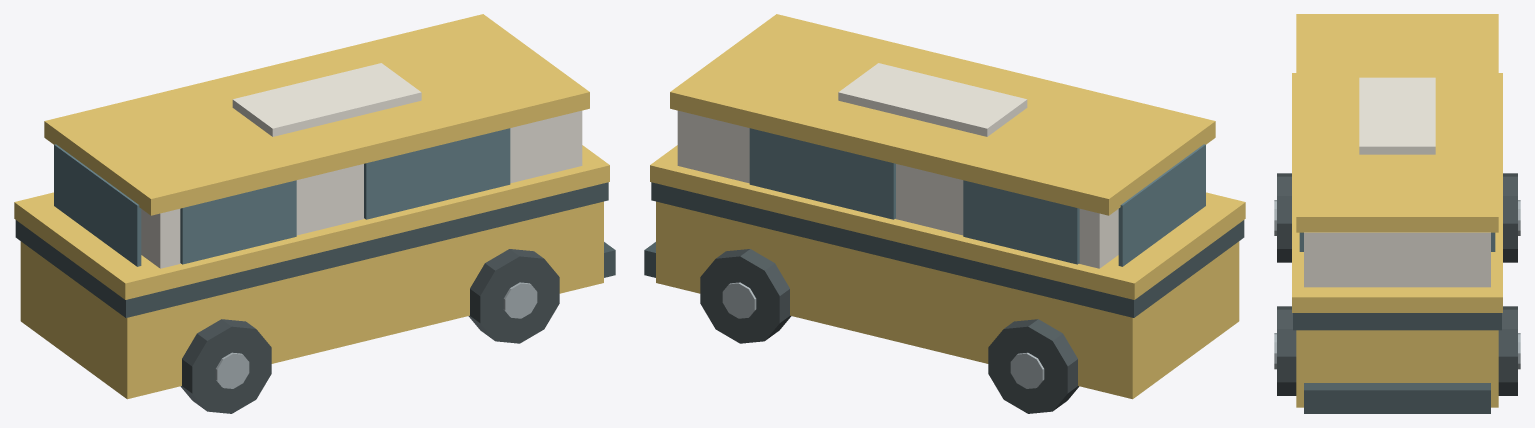
File: yaba_danfo_minibus.glb
3 renders of one model, left to right at view 1: azimuth 30°, elevation 25°; view 2: azimuth 150°, elevation 25°; view 3: azimuth 270°, elevation 25°, orthographic. The views are drawn at different scales.
Visible parts, largest first — view 1: danfo_roof, danfo_lower_body, danfo_yellow_belt, danfo_black_belt, danfo_upper_body, danfo_side_window_rear_1, danfo_route_panel, danfo_side_window_front_1, danfo_wheel_-1.45_0.98, danfo_wheel_1.45_0.98, danfo_rear_window, danfo_hub_1.45_0.98 (+1 smaller); view 2: danfo_roof, danfo_lower_body, danfo_yellow_belt, danfo_black_belt, danfo_upper_body, danfo_side_window_rear_-1, danfo_route_panel, danfo_side_window_front_-1, danfo_wheel_-1.45_-0.98, danfo_wheel_1.45_-0.98, danfo_rear_window, danfo_hub_1.45_-0.98 (+1 smaller); view 3: danfo_roof, danfo_lower_body, danfo_upper_body, danfo_yellow_belt, danfo_route_panel, danfo_front_bumper, danfo_black_belt, danfo_wheel_1.45_0.98, danfo_wheel_1.45_-0.98, danfo_wheel_-1.45_0.98, danfo_wheel_-1.45_-0.98.
Boxes of the visible parts, x1,y1,x2,y2 form: danfo_roof: [44, 14, 589, 215]; danfo_lower_body: [20, 201, 603, 399]; danfo_yellow_belt: [14, 145, 609, 299]; danfo_black_belt: [15, 182, 608, 317]; danfo_upper_body: [141, 110, 582, 268]; danfo_side_window_rear_1: [364, 128, 510, 219]; danfo_route_panel: [232, 63, 421, 136]; danfo_side_window_front_1: [180, 180, 296, 264]; danfo_wheel_-1.45_0.98: [180, 319, 271, 413]; danfo_wheel_1.45_0.98: [468, 249, 559, 343]; danfo_rear_window: [54, 144, 141, 266]; danfo_hub_1.45_0.98: [503, 282, 537, 318]; danfo_roof: [670, 14, 1215, 215]; danfo_lower_body: [656, 201, 1239, 399]; danfo_yellow_belt: [650, 145, 1245, 299]; danfo_black_belt: [651, 182, 1244, 317]; danfo_upper_body: [677, 110, 1118, 268]; danfo_side_window_rear_-1: [749, 128, 895, 219]; danfo_route_panel: [838, 63, 1027, 136]; danfo_side_window_front_-1: [963, 180, 1079, 264]; danfo_wheel_-1.45_-0.98: [988, 319, 1079, 413]; danfo_wheel_1.45_-0.98: [700, 249, 791, 343]; danfo_rear_window: [1118, 144, 1205, 266]; danfo_hub_1.45_-0.98: [722, 282, 756, 318]; danfo_roof: [1296, 14, 1498, 232]; danfo_lower_body: [1296, 330, 1498, 407]; danfo_upper_body: [1304, 232, 1490, 287]; danfo_yellow_belt: [1292, 73, 1502, 312]; danfo_route_panel: [1359, 77, 1435, 154]; danfo_front_bumper: [1304, 383, 1490, 413]; danfo_black_belt: [1293, 313, 1501, 330]; danfo_wheel_1.45_0.98: [1277, 306, 1296, 395]; danfo_wheel_1.45_-0.98: [1498, 306, 1517, 395]; danfo_wheel_-1.45_0.98: [1277, 173, 1291, 262]; danfo_wheel_-1.45_-0.98: [1503, 173, 1517, 262].
Size of what is drawn, in the model's own units: 5 by 2.24 by 2.27.
